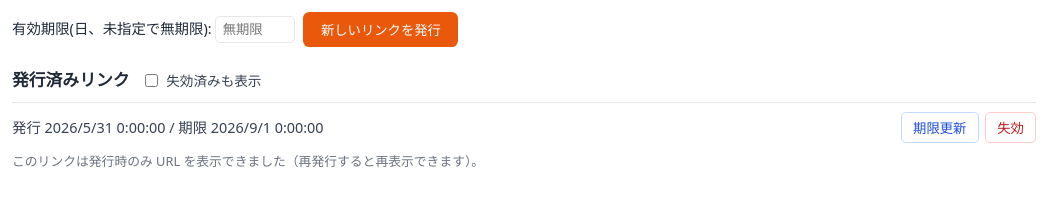
Test: MagicLinkManager › 範囲外の延長日数はクライアントで弾き fetch しない
Click the button "期限更新" at (940, 128), box [901,112,979,143]
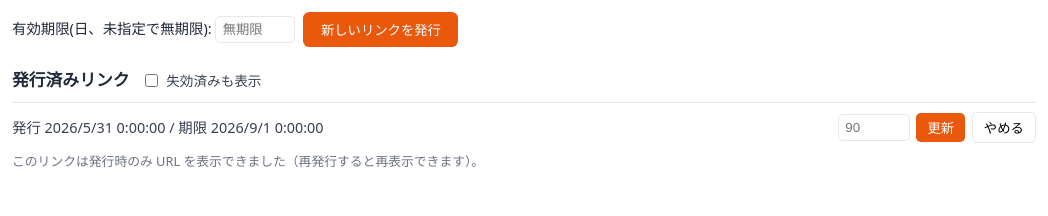
Type "0" into the number field named "新しい有効日数（今日から）" at (874, 128), box [838,114,910,141]
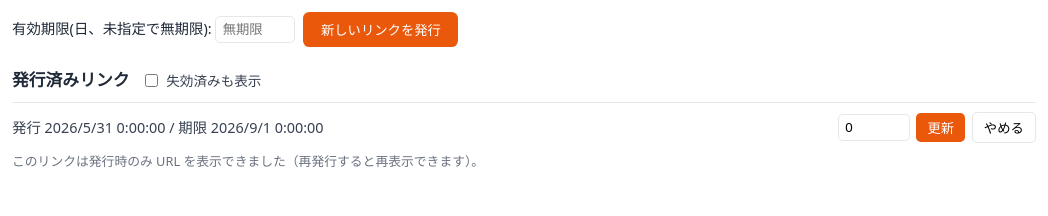
Click the button "更新" at (941, 128), box [916,114,965,142]
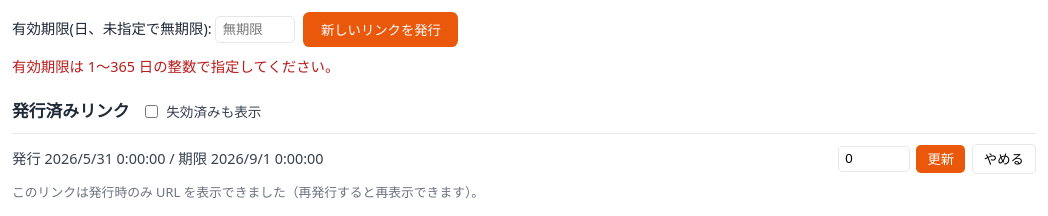
Expected: the message shows "有効期限は", [12,57,339,76]
